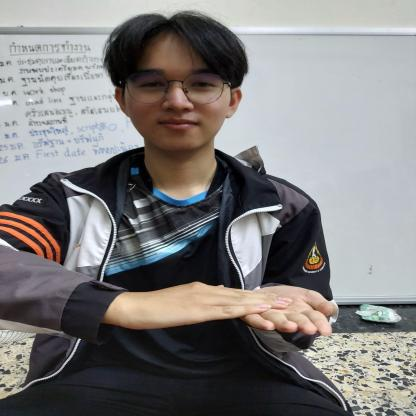Sorry: (117, 264, 348, 347)
